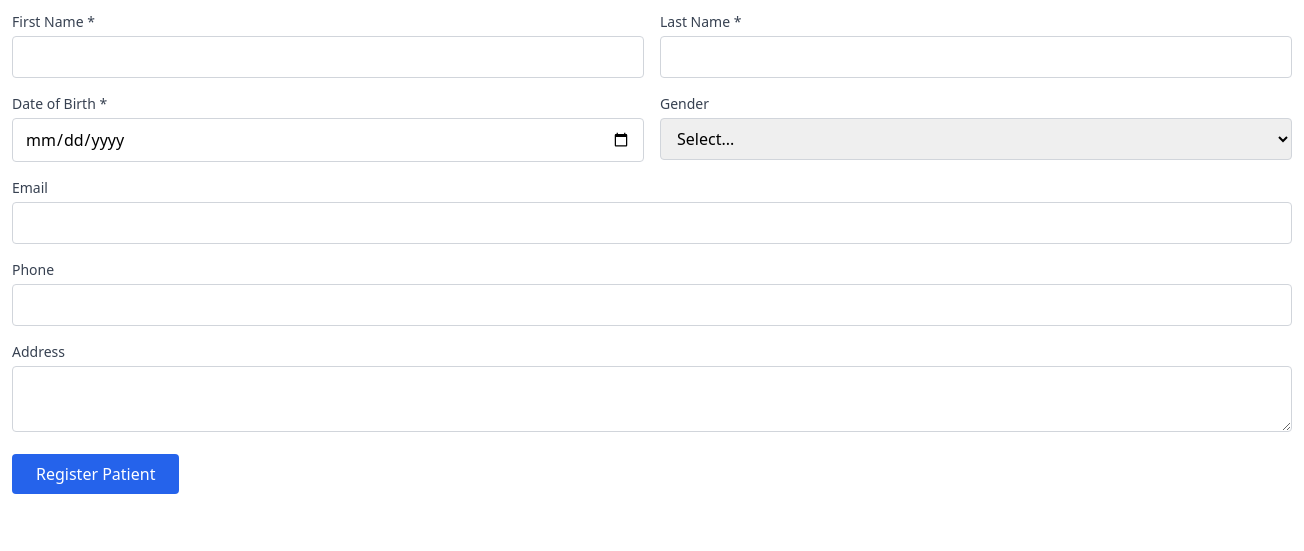
Test case: PatientRegistrationForm › shows validation errors when required fields are empty
The image size is (1304, 551).
Click the button "Register Patient" at {"x": 96, "y": 474}, box [12,454,179,494]
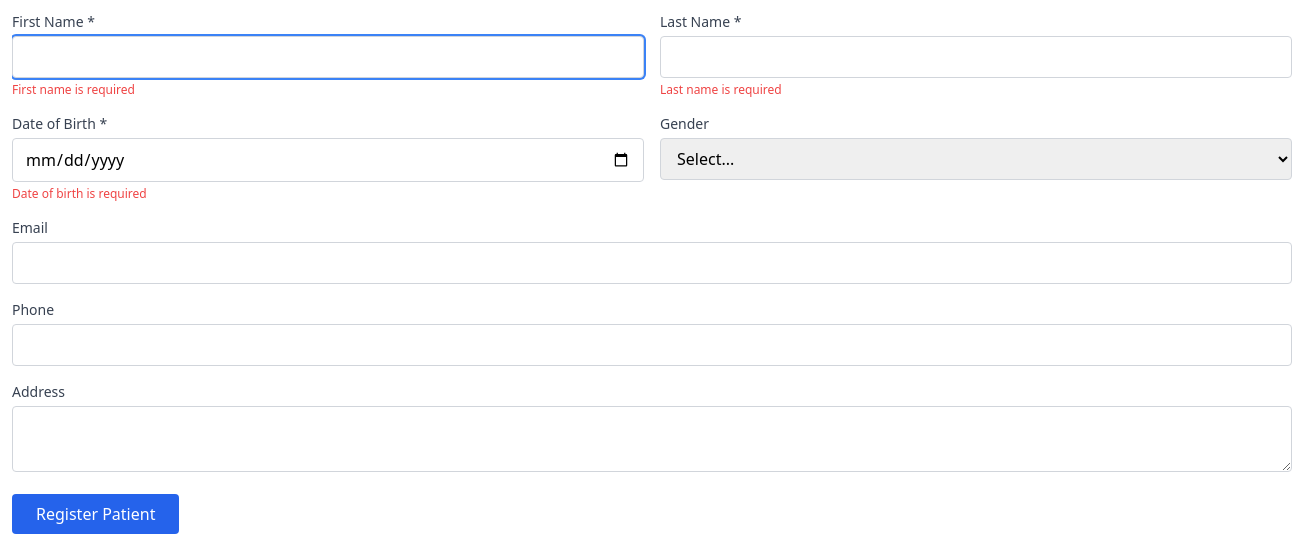
Now the text "First name is required" is shown, box [12,81,135,98]
Now the text "Last name is required" is shown, box [660,81,782,98]
